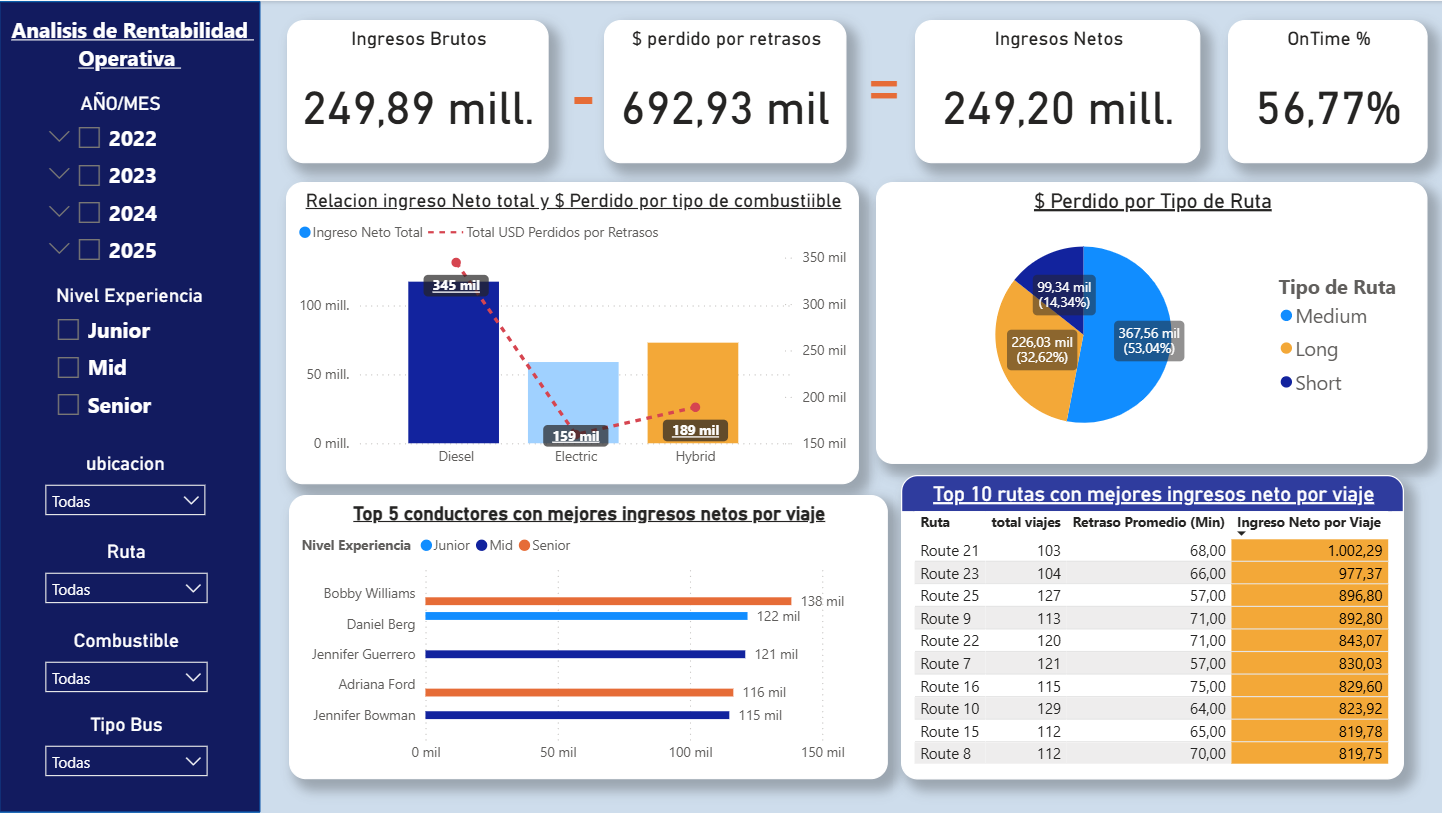

The dashboard page shown, as its layout file describes it:
{"tool":"powerbi","page":{"name":"Analisis de rentabilidad operativa","canvas":[1280,720],"ordinal":2},"visuals":[{"type":"card","title":"Ingresos Netos","fields":{"Values":["Consulta2.Ingreso Neto Total"]},"box":[812.5,16.7,253.4,127.3],"z":0},{"type":"card","title":"OnTime %","fields":{"Values":["Consulta2.OnTime %"]},"box":[1089.7,16.7,177.2,127.3],"z":1},{"type":"card","title":"$ perdido por retrasos","fields":{"Values":["Consulta2.Total USD Perdidos por Retrasos"]},"box":[536.5,16.7,215.3,127.3],"z":3},{"type":"card","title":"Ingresos Brutos","fields":{"Values":["Consulta2.revenue_usd"]},"box":[255.8,16.7,232,127.3],"z":4},{"type":"textbox","box":[500.8,35.7,41.6,90.4],"z":5},{"type":"textbox","box":[762.5,35.7,50,90.4],"z":6},{"type":"lineStackedColumnComboChart","title":"Relacion ingreso Neto total y $ Perdido por tipo de combustiible","fields":{"Category":["Consulta2.fuel_type","Consulta2.fecha.Variación.Jerarquía de fechas.Año"],"Y":["Consulta2.Ingreso Neto Total"],"Y2":["Consulta2.Total USD Perdidos por Retrasos"]},"box":[254.6,160.6,508,267.7],"z":8},{"type":"pieChart","title":"$ Perdido por Tipo de Ruta","fields":{"Category":["Consulta2.Route_type"],"Y":["Consulta2.Total USD Perdidos por Retrasos"]},"box":[778,160.6,488.9,249.8],"z":9},{"type":"clusteredBarChart","title":"Top 5 conductores con mejores ingresos netos por viaje","fields":{"Category":["Consulta2.conductor_nombre"],"Series":["Consulta2.Experience_Level"],"Y":["Consulta2.Ingreso Neto por Viaje"]},"box":[257,437.8,530.6,252.2],"z":11},{"type":"tableEx","title":"Top 10 rutas con mejores ingresos neto por viaje ","fields":{"Values":["Consulta2.route_name","Consulta2.total viajes","Consulta2.Retraso Promedio","Consulta2.Ingreso Neto por Viaje"]},"box":[799.4,419.9,446.1,270],"z":12},{"type":"shape","box":[0,0,232,719.7],"z":13},{"type":"slicer","title":"AÑO/MES","fields":{"Values":["Consulta2.fecha.Variación.Jerarquía de fechas.Año","Consulta2.fecha.Variación.Jerarquía de fechas.Mes"]},"box":[30.9,80.9,153.5,161.8],"z":14},{"type":"slicer","title":"Nivel Experiencia","fields":{"Values":["Consulta2.Experience_Level"]},"box":[39.3,251,153.5,134.4],"z":15},{"type":"slicer","title":"ubicacion","fields":{"Values":["Consulta2.provincia"]},"box":[31.3,399.7,162.1,75.5],"z":16},{"type":"slicer","title":"Tipo Bus","fields":{"Values":["Consulta2.bus_model"]},"box":[31.3,631.7,163.9,74.6],"z":17},{"type":"slicer","title":"Ruta","fields":{"Values":["Consulta2.Route_type"]},"box":[31.3,477.9,163.9,70.9],"z":18},{"type":"slicer","title":"Combustible","fields":{"Values":["Consulta2.fuel_type"]},"box":[31.3,557.1,163.9,74.6],"z":19},{"type":"textbox","box":[0,8.3,232,84.5],"z":20}]}

Visuals, with their boxes in screenshot pixels (x1, y1, x2, y2), scaled from the page's 1280x720 canvas onto the 1442x813 screenshot:
"Ingresos Netos" card: 915:19:1201:163
"OnTime %" card: 1228:19:1427:163
"$ perdido por retrasos" card: 604:19:847:163
"Ingresos Brutos" card: 288:19:550:163
textbox: 564:40:611:142
textbox: 859:40:915:142
"Relacion ingreso Neto total y $ Perdido por tipo de combustiible" lineStackedColumnComboChart: 287:181:859:484
"$ Perdido por Tipo de Ruta" pieChart: 876:181:1427:463
"Top 5 conductores con mejores ingresos netos por viaje" clusteredBarChart: 290:494:887:779
"Top 10 rutas con mejores ingresos neto por viaje " tableEx: 901:474:1403:779
shape: 0:0:261:812
"AÑO/MES" slicer: 35:91:208:274
"Nivel Experiencia" slicer: 44:283:217:435
"ubicacion" slicer: 35:451:218:537
"Tipo Bus" slicer: 35:713:220:798
"Ruta" slicer: 35:540:220:620
"Combustible" slicer: 35:629:220:713
textbox: 0:9:261:105
